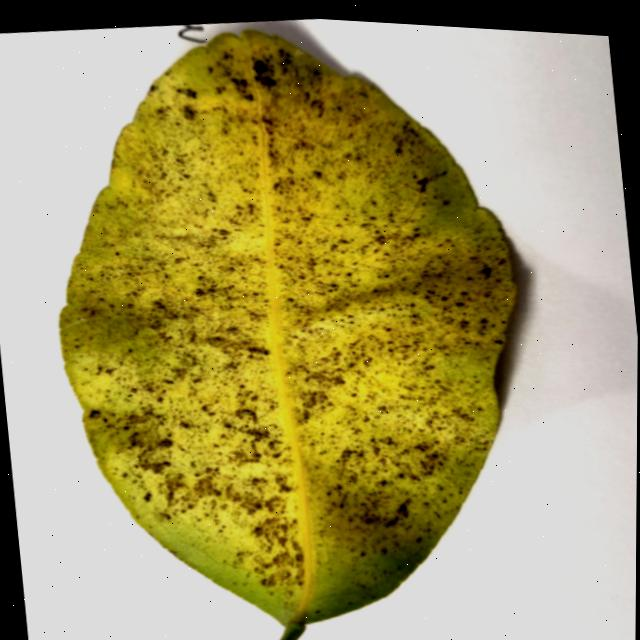melanose: (59, 30, 513, 631)
